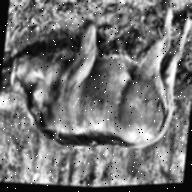boar: (2, 0, 192, 164)
